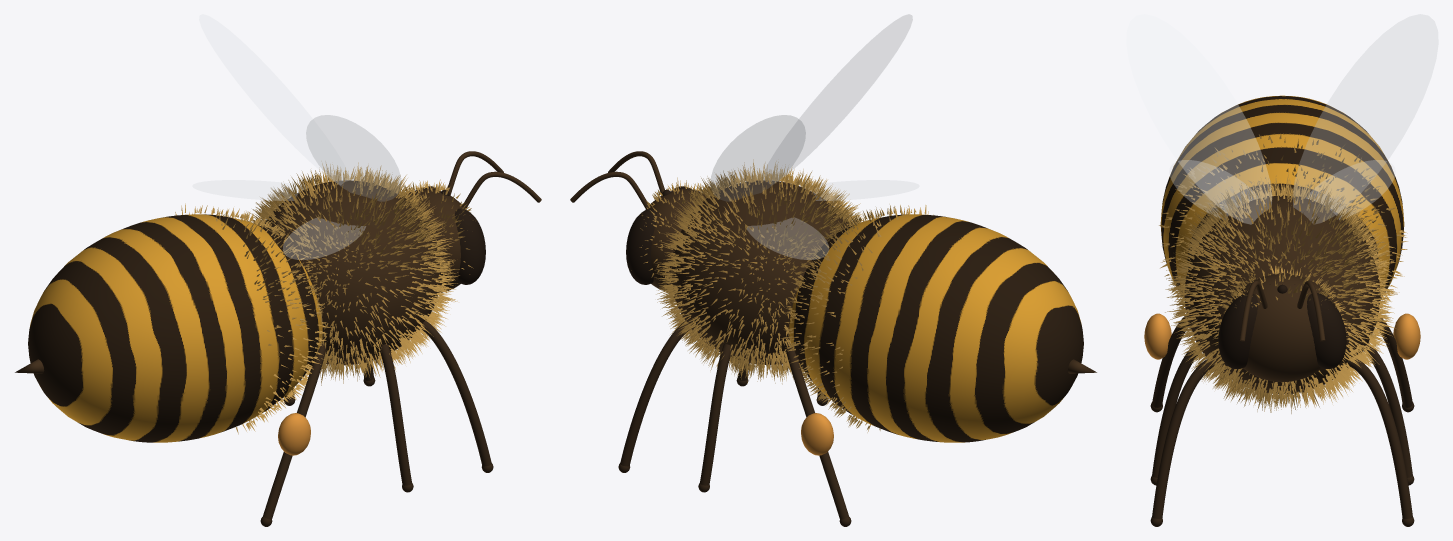
Rendered from bee-hero.glb.
The picture shows the model from 3 angles, left to right: view 1: azimuth 30°, elevation 25°; view 2: azimuth 150°, elevation 25°; view 3: azimuth 270°, elevation 25°; orthographic projection. The views are drawn at different scales.
Parts seen in each view (by area): view 1: abdomen, thorax, fuzz, foreWingL, foreWingR, hindWingR, head, compoundEyeR, foreLegR, hindWingL, midLegR, hindLegR (+1 smaller); view 2: abdomen, thorax, fuzz, foreWingR, foreWingL, head, hindWingL, compoundEyeL, foreLegL, hindWingR, midLegL, hindLegL (+1 smaller); view 3: fuzz, abdomen, foreWingL, foreWingR, thorax, head, hindWingL, hindWingR, compoundEyeL, compoundEyeR, foreLegL, foreLegR (+8 smaller).
Boxes of the visible parts, x1,y1,x2,y2 form: abdomen: (28,214,322,442); thorax: (264,180,441,365); fuzz: (175,162,476,434); foreWingL: (199,14,349,184); foreWingR: (306,115,401,201); hindWingR: (283,217,365,259); head: (403,189,464,292); compoundEyeR: (455,208,485,284); foreLegR: (420,320,491,466); hindWingL: (192,180,307,200); midLegR: (379,344,411,485); hindLegR: (262,343,326,519); abdomen: (789,214,1083,442); thorax: (670,180,848,365); fuzz: (631,159,933,432); foreWingR: (763,14,912,183); foreWingL: (710,115,805,201); head: (645,189,707,291); hindWingL: (747,217,828,259); compoundEyeL: (626,208,656,284); foreLegL: (620,320,691,466); hindWingR: (801,180,919,200); midLegL: (700,344,732,485); hindLegL: (785,343,849,519); fuzz: (1159,134,1407,413); abdomen: (1160,95,1404,300); foreWingL: (1293,14,1438,223); foreWingR: (1126,14,1271,224); thorax: (1184,195,1380,393); head: (1229,274,1336,382); hindWingL: (1306,160,1395,219); hindWingR: (1169,160,1257,219); compoundEyeL: (1307,293,1346,368); compoundEyeR: (1218,293,1257,368); foreLegL: (1346,357,1412,518); foreLegR: (1152,358,1217,518).
Bounding box in the file's own units: 1.49 × 1.13 × 0.7459.
7 materials, 1 textured.
